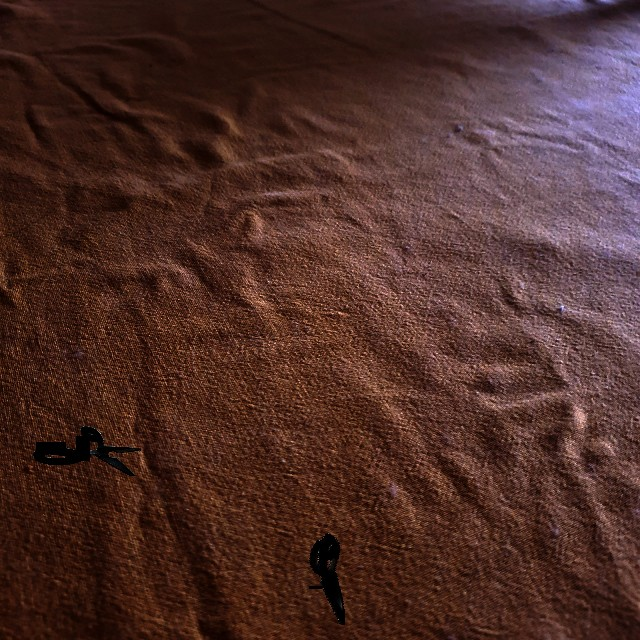scissors: (33, 426, 141, 476), (309, 533, 345, 625)
